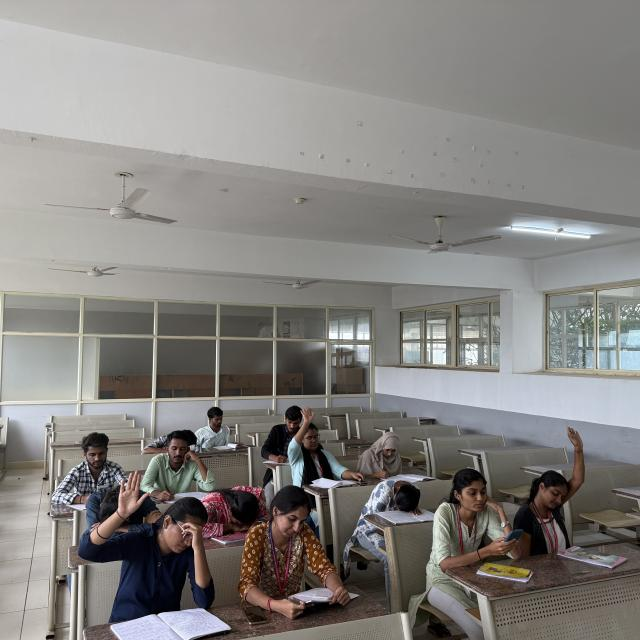Hand Rising: (94, 467, 217, 607), (514, 411, 597, 532), (286, 397, 356, 485)
Reading: (248, 480, 364, 604), (190, 398, 253, 458)
Sleeping: (188, 474, 268, 532), (360, 469, 433, 515), (84, 479, 147, 521)
Using Phone: (422, 457, 526, 552), (45, 434, 146, 507)
Writing: (150, 427, 216, 504), (349, 420, 428, 484), (257, 394, 304, 472)
